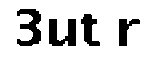3: (12, 6, 42, 53)
r: (116, 13, 145, 54)
t: (80, 11, 107, 52)
u: (46, 15, 80, 49)
